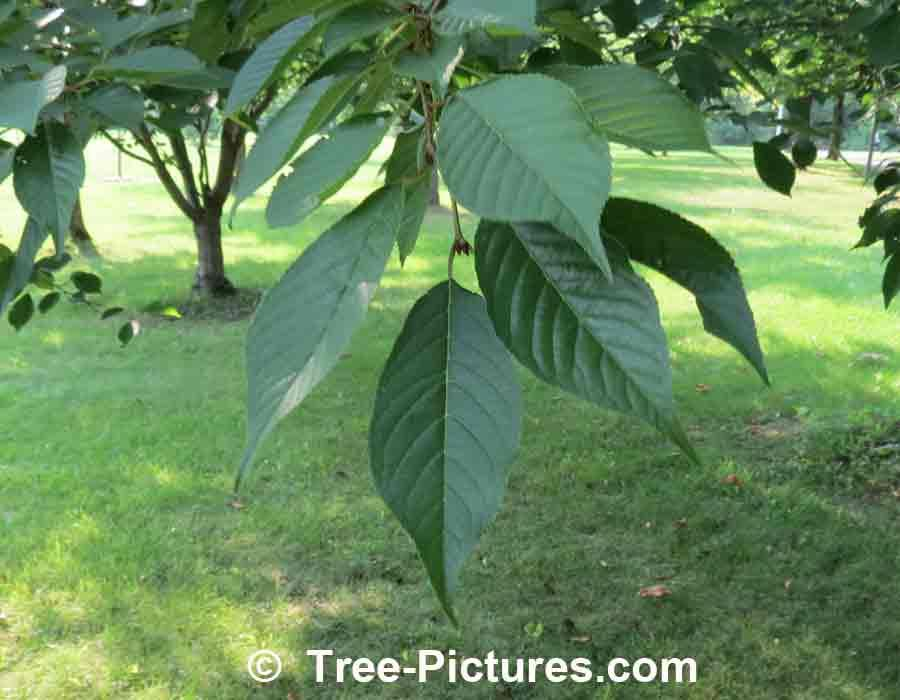Cherry leaf: (216, 168, 422, 508), (475, 201, 718, 479), (366, 275, 520, 644), (437, 74, 627, 288), (599, 184, 784, 397), (211, 57, 381, 236), (255, 99, 411, 242), (205, 16, 333, 126), (15, 110, 89, 273)
